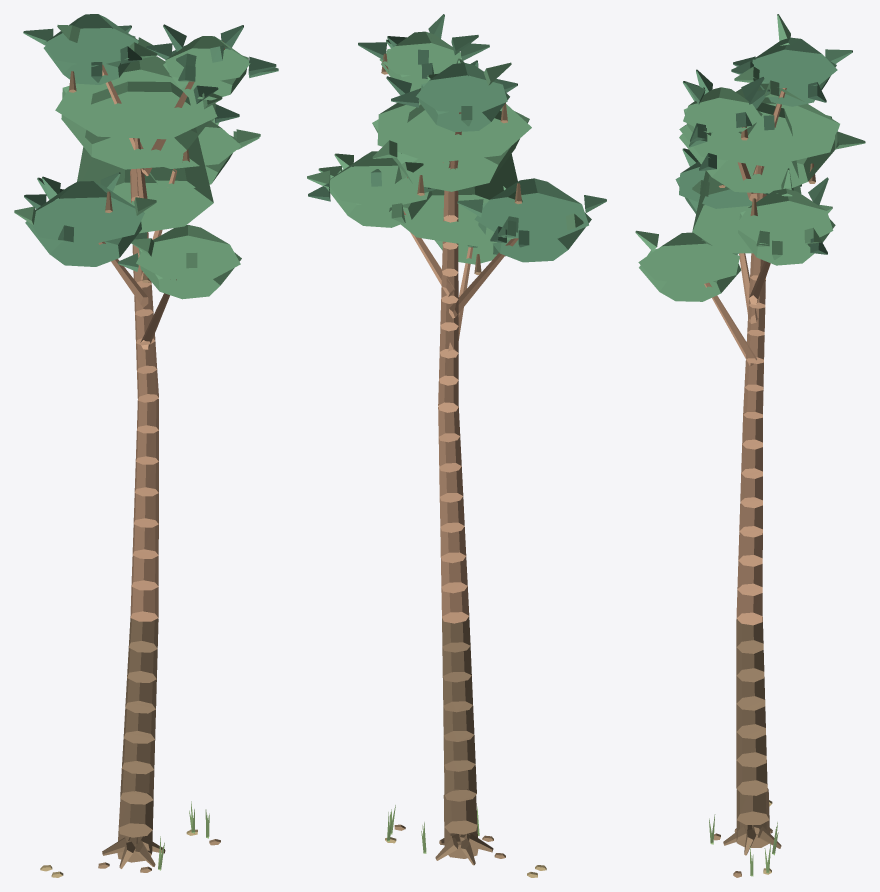
The model's file is tree_pine.glb.
3 renders of one model, left to right at view 1: azimuth 30°, elevation 25°; view 2: azimuth 150°, elevation 25°; view 3: azimuth 270°, elevation 25°, orthographic. The views are drawn at different scales.
Parts seen in each view (by area): view 1: Crown#2, Crown.Core, Crown#4, Crown#8, Crown, Crown#10, Crown#12, Crown#3, Crown#6, Crown#7, Trunk, Crown#9 (+18 smaller); view 2: Crown#2, Crown#4, Crown.Core, Crown#6, Crown#10, Crown, Crown#12, Crown#3, Crown#5, Crown#9, Trunk, Trunk#2 (+15 smaller); view 3: Crown#2, Crown#6, Crown#8, Crown#10, Crown, Crown.Core, Crown#12, Crown#4, Crown#7, Crown#5, Trunk, Trunk#2 (+18 smaller).
Boxes of the visible parts, <box> form: Crown#2: <box>55,56,217,139</box>; Crown.Core: <box>77,81,213,233</box>; Crown#4: <box>31,181,144,245</box>; Crown#8: <box>136,225,240,279</box>; Crown: <box>61,85,215,169</box>; Crown#10: <box>45,14,138,66</box>; Crown#12: <box>165,36,250,83</box>; Crown#3: <box>25,206,141,266</box>; Crown#6: <box>164,121,240,168</box>; Crown#7: <box>139,249,241,299</box>; Trunk: <box>118,791,153,837</box>; Crown#9: <box>43,35,135,84</box>; Crown#2: <box>377,88,531,163</box>; Crown#4: <box>474,178,588,239</box>; Crown.Core: <box>389,104,522,246</box>; Crown#6: <box>329,151,428,208</box>; Crown#10: <box>416,62,507,113</box>; Crown: <box>372,111,529,191</box>; Crown#12: <box>379,31,461,77</box>; Crown#3: <box>478,203,591,262</box>; Crown#5: <box>326,169,432,227</box>; Crown#9: <box>418,83,509,131</box>; Trunk: <box>443,789,477,834</box>; Trunk#2: <box>444,765,476,801</box>; Crown#2: <box>679,83,839,166</box>; Crown#6: <box>734,188,833,245</box>; Crown#8: <box>638,232,739,285</box>; Crown#10: <box>752,37,837,88</box>; Crown: <box>679,115,839,193</box>; Crown.Core: <box>692,102,801,253</box>; Crown#12: <box>683,87,762,132</box>; Crown#4: <box>679,161,752,208</box>; Crown#7: <box>639,249,740,301</box>; Crown#5: <box>738,211,835,265</box>; Trunk: <box>736,788,769,824</box>; Trunk#2: <box>736,760,767,795</box>.
Bounding box in the file's own units: 5.5 × 17.04 × 4.44.
